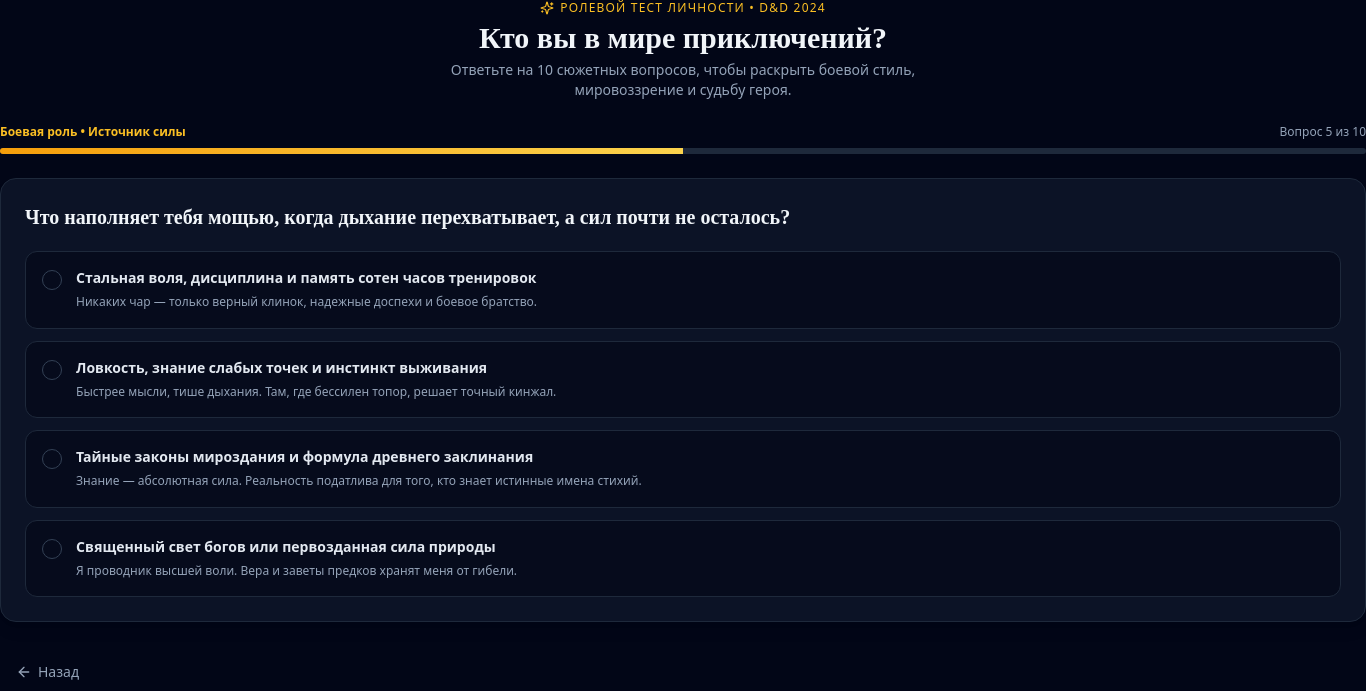
Test case: PersonalityQuiz Component › completes all 10 questions, displays result card, and calls onComplete upon acceptance
Earlier steps of the test are not shown.
Later steps or results of the test are not shown.
Click the 1st button.
click(306, 278)  # box [25,251,1341,328]
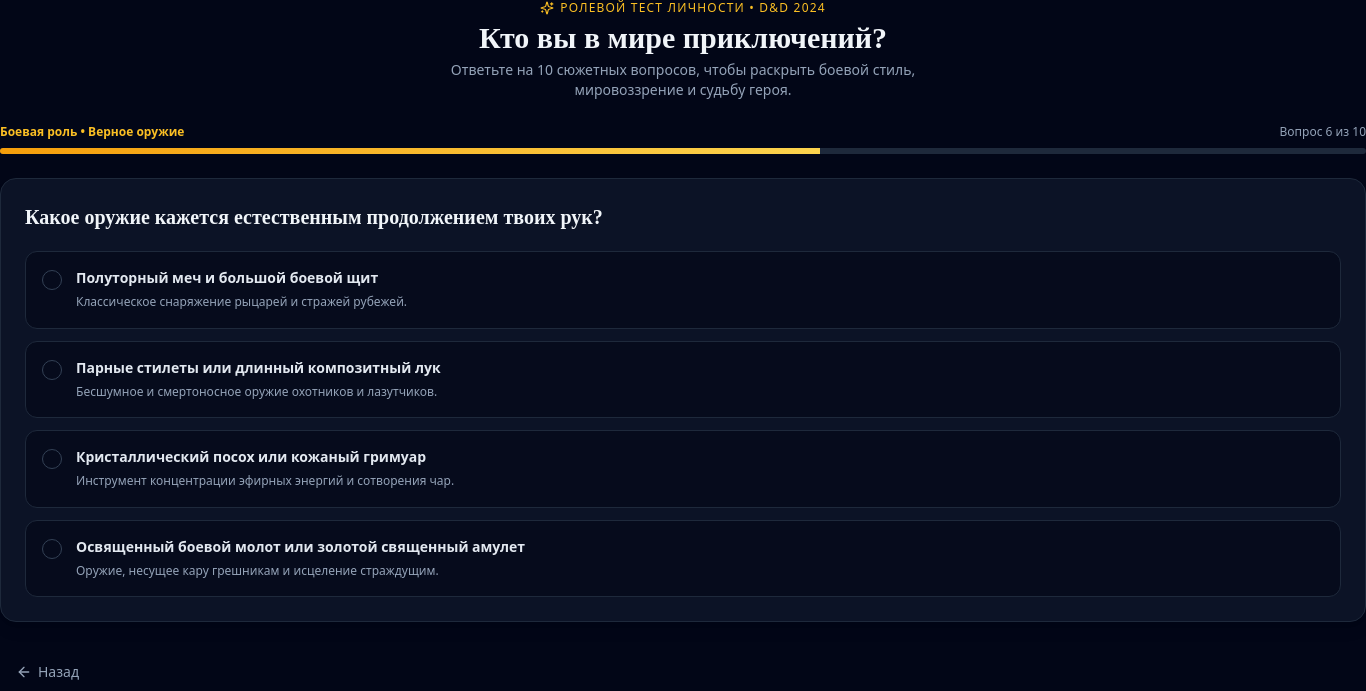
Now the button that starts with "Полуторный меч и большой боевой щит" is shown
Click the button that starts with "Полуторный меч и большой боевой щит".
click(227, 278)  # box [25,251,1341,328]
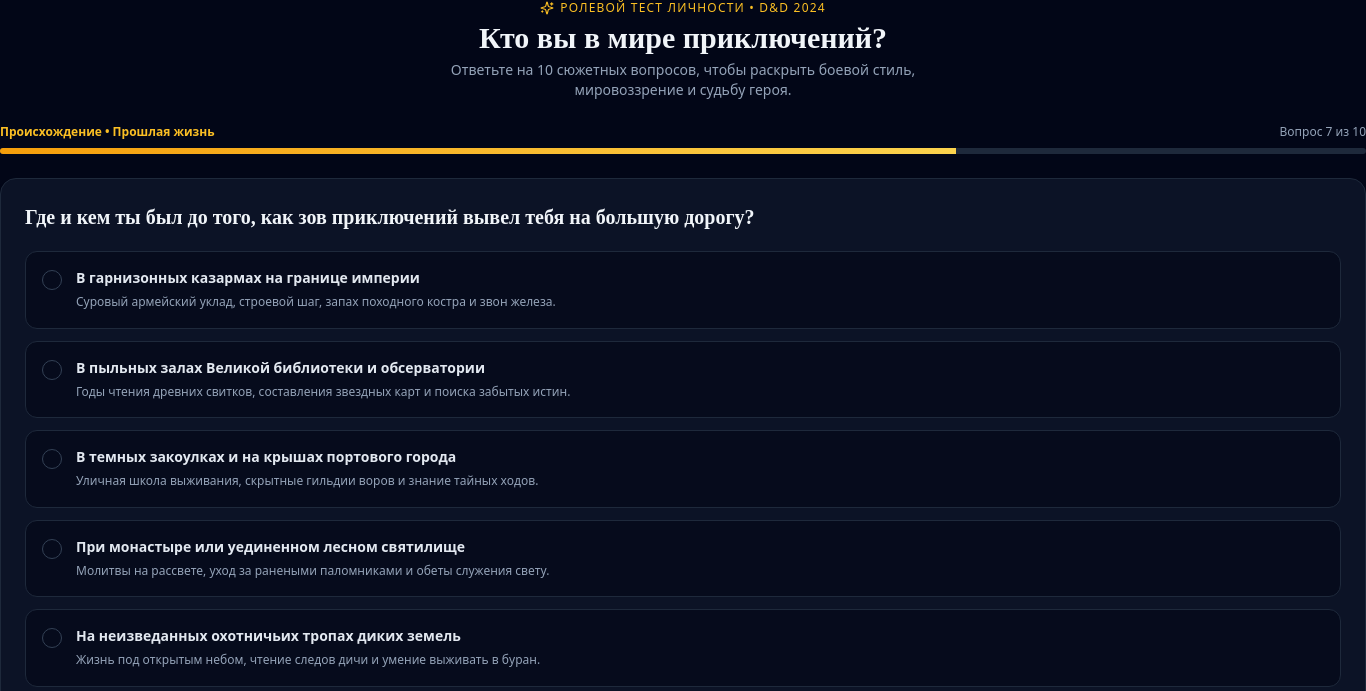
Now the 1st button is shown
Click the 1st button.
click(248, 278)  # box [25,251,1341,328]
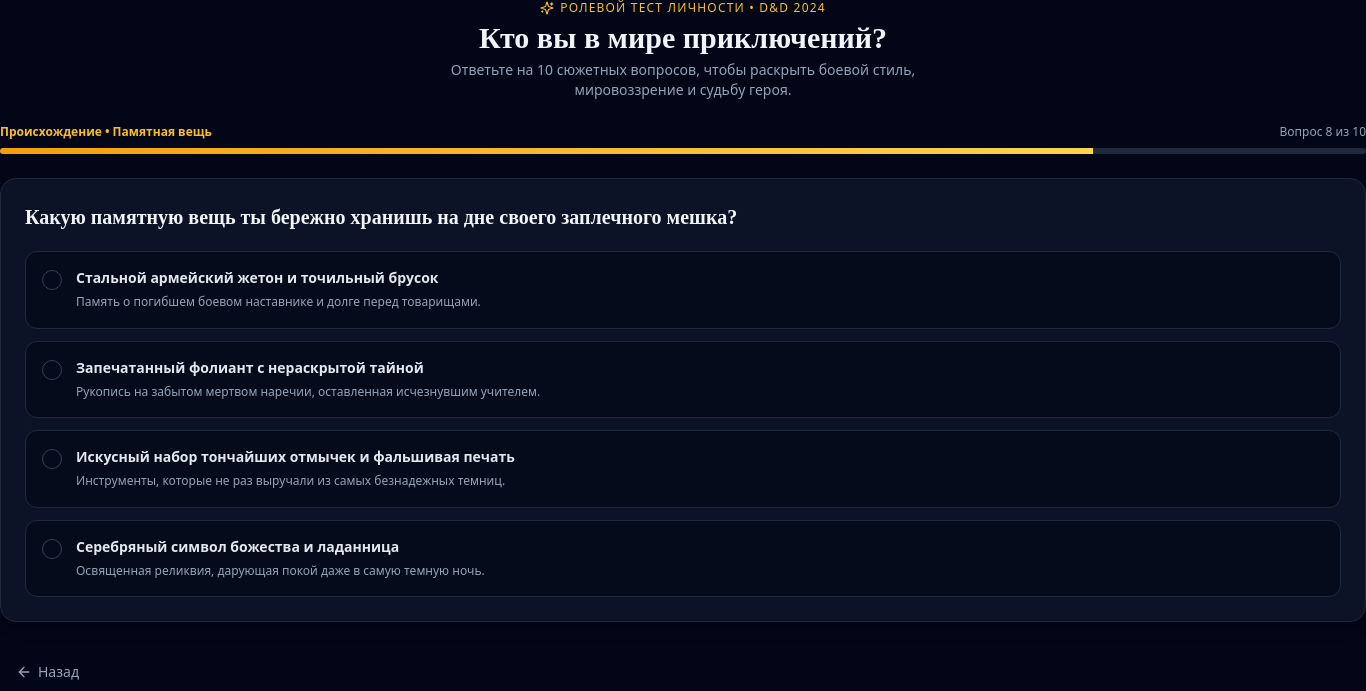
Now the 1st button is shown
Click the 1st button.
click(257, 278)  # box [25,251,1341,328]
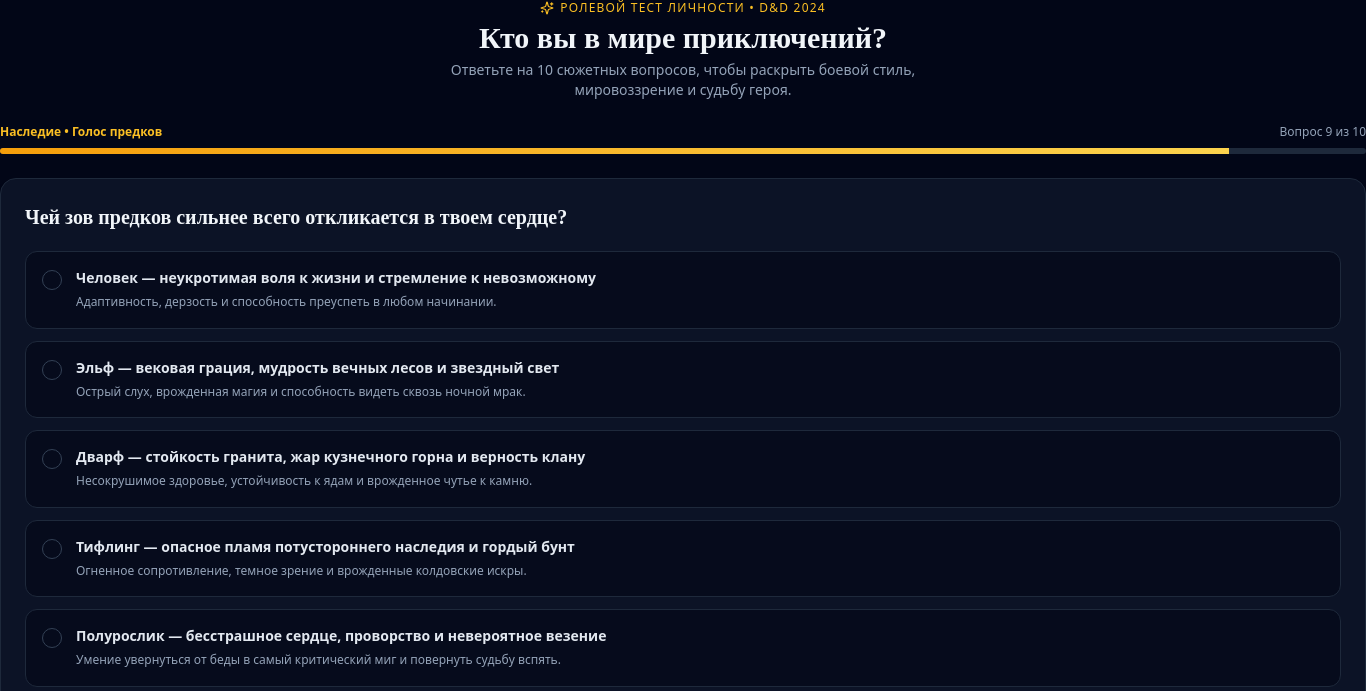
Now the 1st button is shown
Click the 1st button.
click(336, 278)  # box [25,251,1341,328]
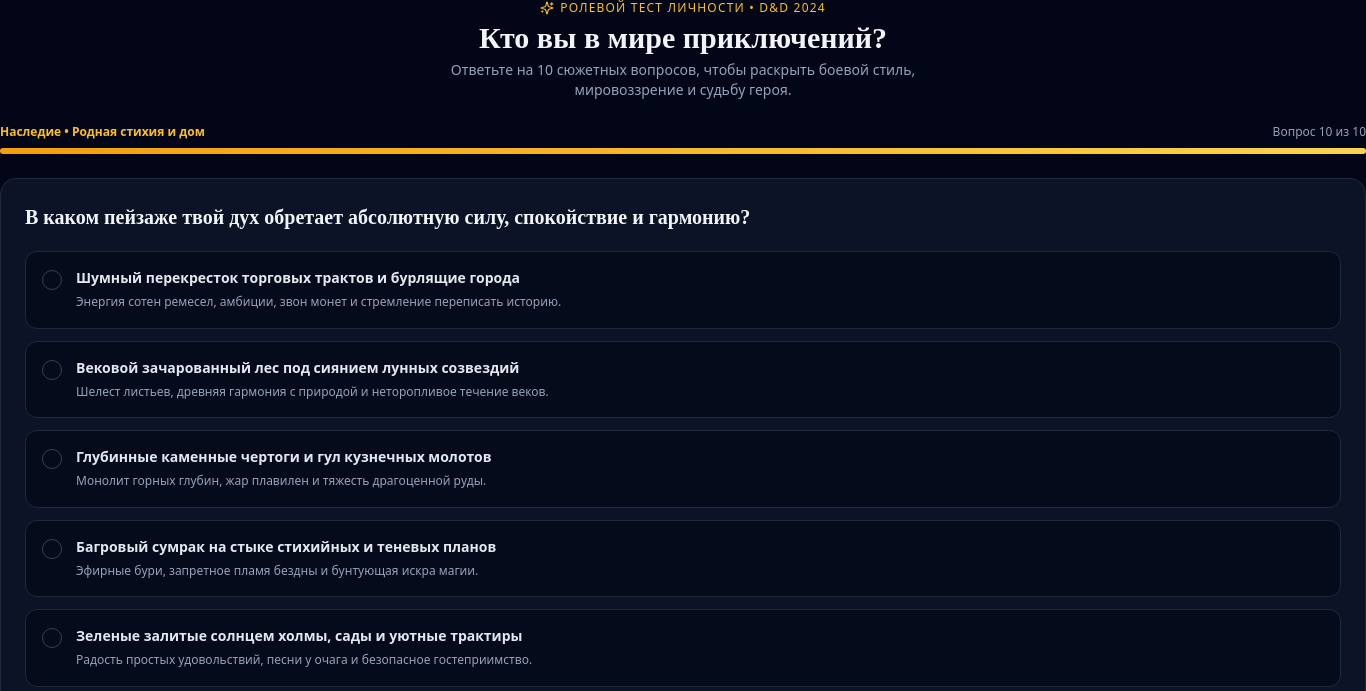
Now the 1st button is shown
Click the 1st button.
click(298, 278)  # box [25,251,1341,328]
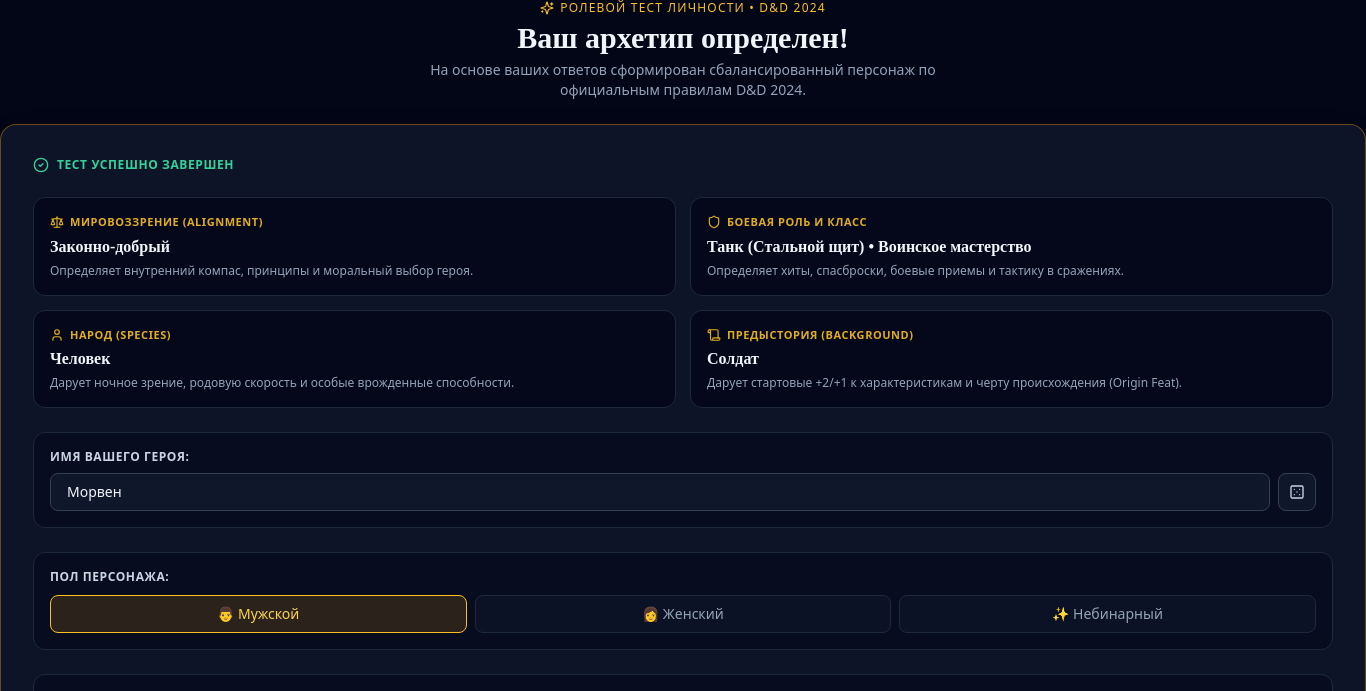
Now the heading "Ваш архетип определен!" is shown, box [517,21,849,54]
Now the text "Мировоззрение (Alignment)" is shown, box [50,214,263,229]
Now the text "Тест успешно завершен" is shown, box [57,157,234,173]
